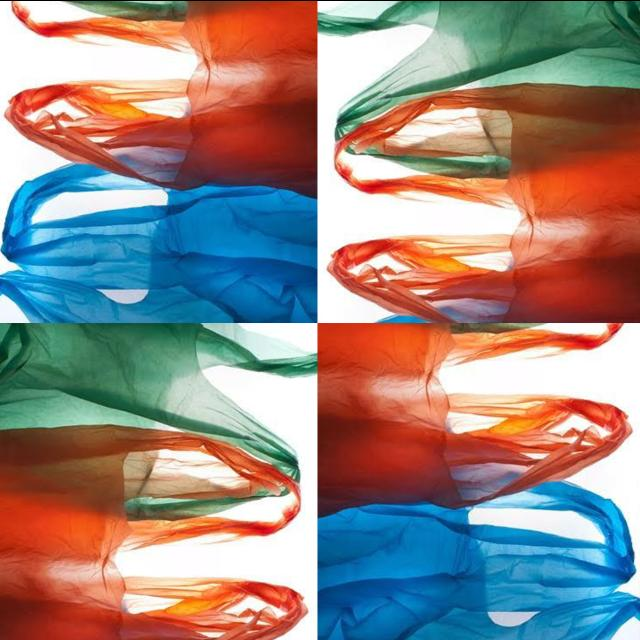plastik: (329, 83, 640, 322), (0, 424, 306, 640), (5, 0, 317, 194), (317, 322, 631, 513), (319, 481, 640, 640), (0, 164, 316, 322), (0, 323, 316, 479), (319, 0, 640, 139), (365, 149, 510, 178)
